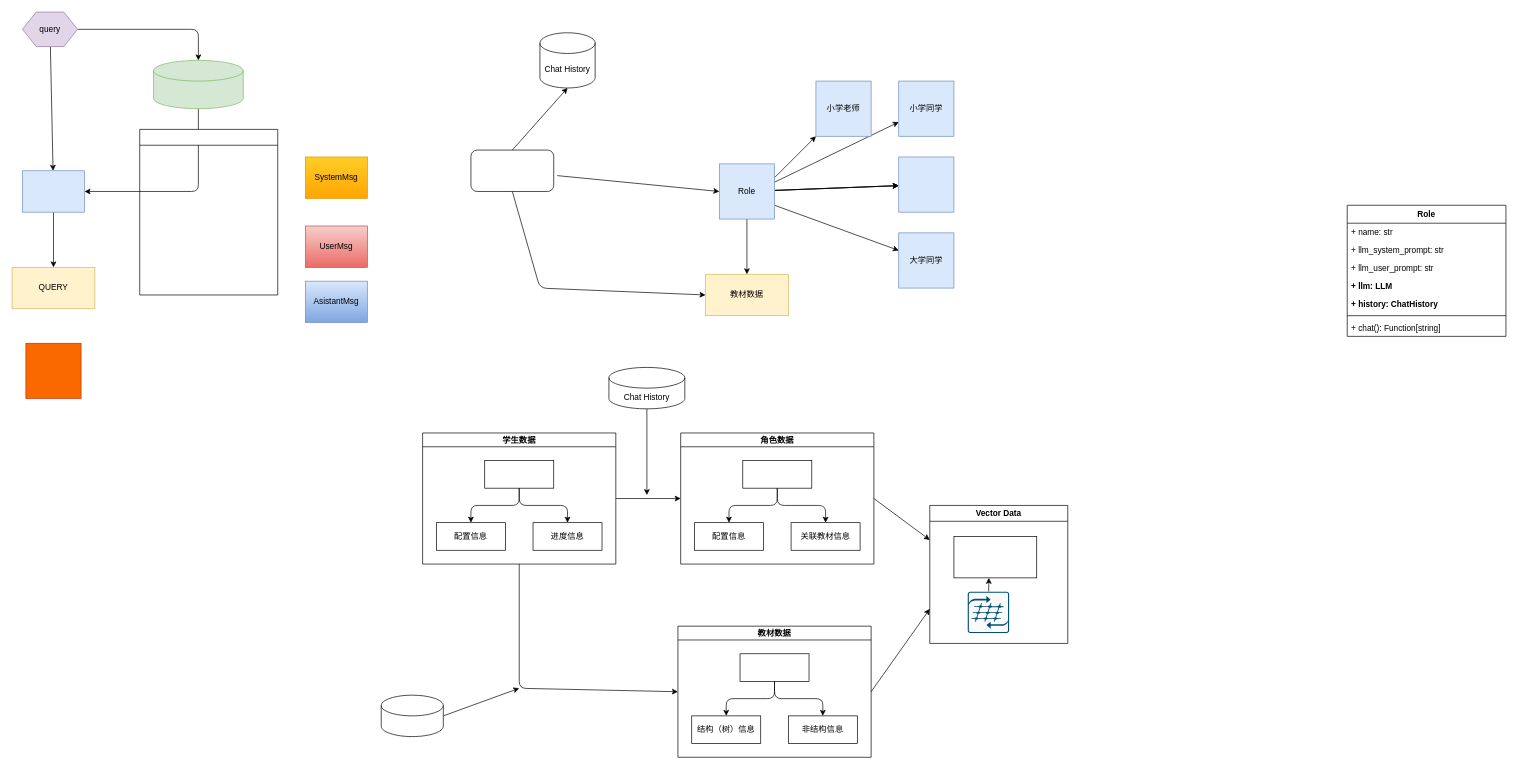
Image size: 1518x769. Some labels were removed from this diagram. Each missing label, with the centre of its shape:
prompt: the point at 53,191
Related Data: the point at 198,84
Student: the point at 512,170
Vertical Container: the point at 208,212
学习路径记录: the point at 412,715
学生: the point at 519,474
带结构元数据的 数据: the point at 995,557
角色: the point at 777,474
课程信息: the point at 774,667
高中同学: the point at 926,184
